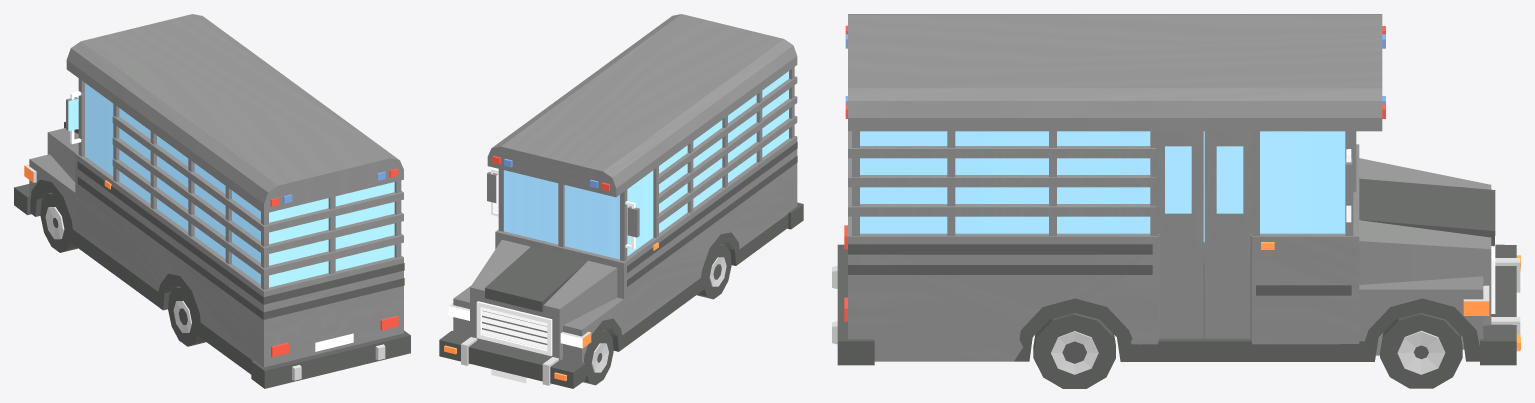
The model's file is transport_purpose.001.glb.
3 views of the same model, side by side, from view 1: azimuth 30°, elevation 25°; view 2: azimuth 150°, elevation 25°; view 3: azimuth 270°, elevation 25° (orthographic). The views are drawn at different scales.
Visible parts, largest first — view 1: transport_purpose.001(Clone); view 2: transport_purpose.001(Clone); view 3: transport_purpose.001(Clone).
Part boxes in pixels (left/top/right/bottom): transport_purpose.001(Clone): left=14, top=14, right=410, bottom=388; transport_purpose.001(Clone): left=439, top=14, right=803, bottom=388; transport_purpose.001(Clone): left=832, top=14, right=1520, bottom=388.
Size of the model in its own units: 2.02 by 2.55 by 5.44.
1 material, 1 textured.
